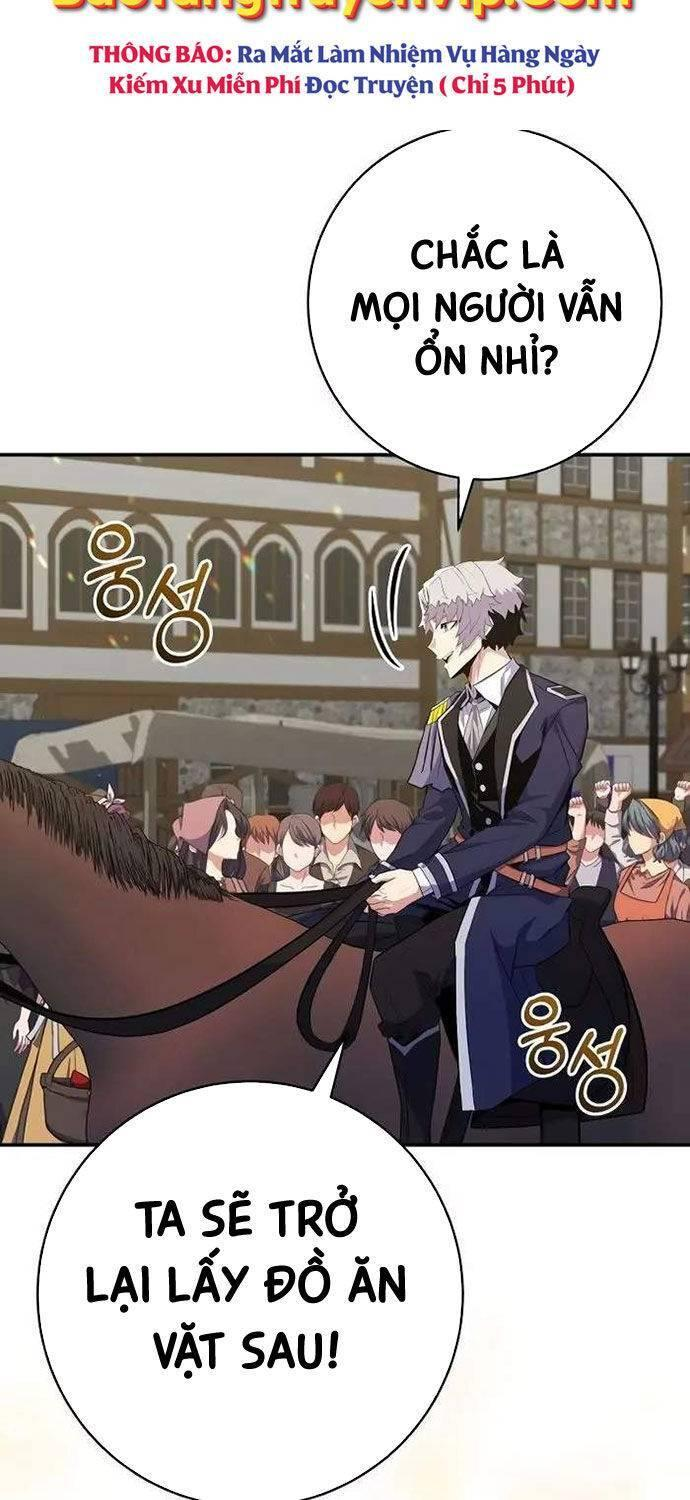quangcao: (48, 0, 650, 112)
